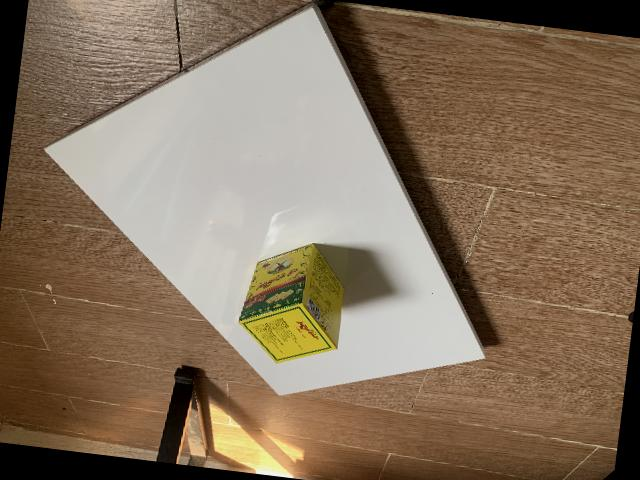luong_kho: (237, 242, 343, 362)
